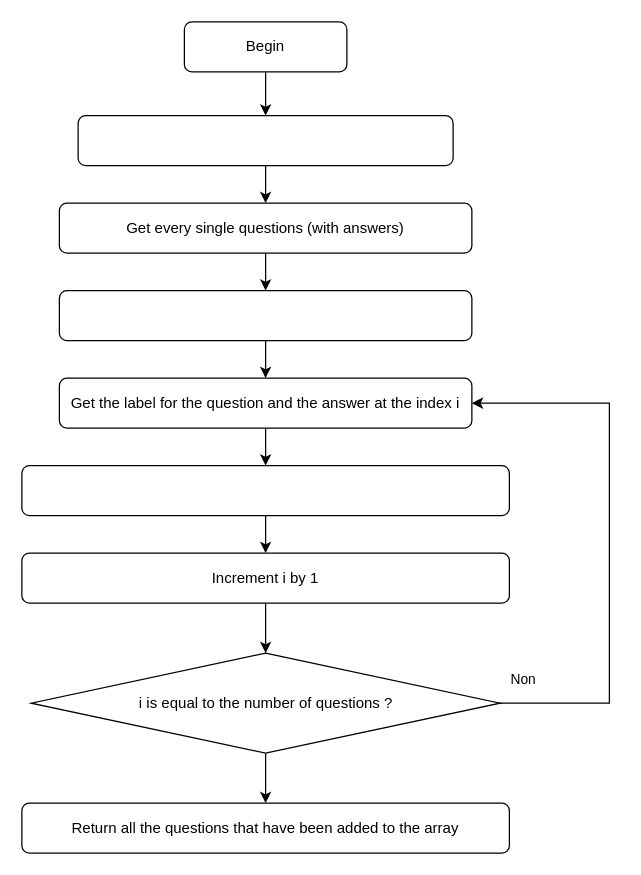
The diagram is 641 pixels wide and 875 high, and some of its shapes have lost their labels. Here are the shapes that lost their labels. From the top down, the centre of each, then its label:
At pixel 265 140: "Questions generation by ChatGPT".
At pixel 265 315: "int i = 0".
At pixel 265 490: "Create the question object and add it to the array of questions".
